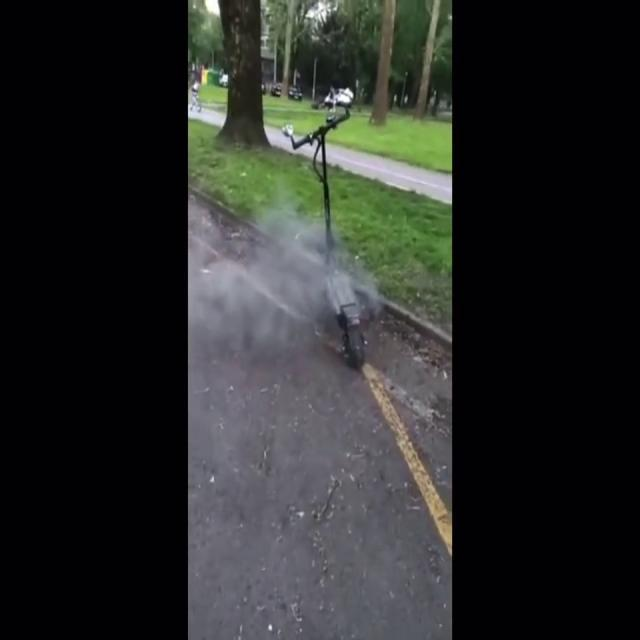Smoke: (188, 188, 378, 339)
